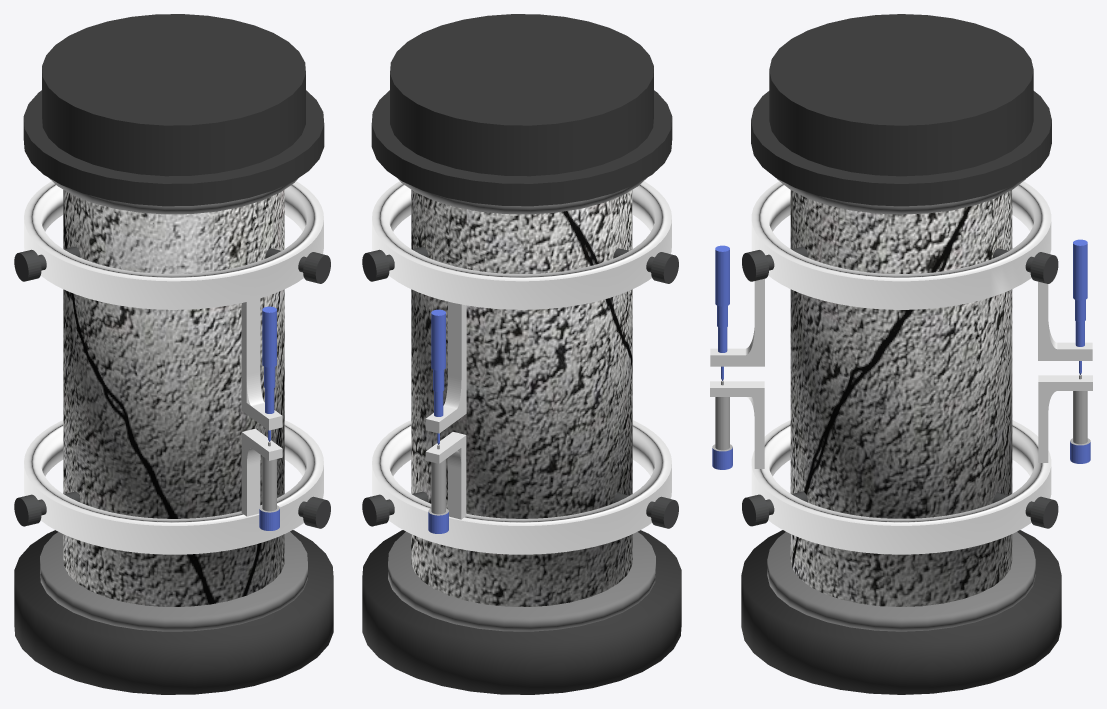
File: cilindro-shear.gltf
3 views of the same model, side by side, from view 1: azimuth 30°, elevation 25°; view 2: azimuth 150°, elevation 25°; view 3: azimuth 270°, elevation 25° (orthographic).
Visible parts, largest first — view 1: cilindroConcreto, apoyo_sup, compresometro, apoyo_inf, espuma_inf, espuma_sup; view 2: cilindroConcreto, apoyo_sup, compresometro, apoyo_inf, espuma_inf, espuma_sup; view 3: cilindroConcreto, apoyo_sup, compresometro, apoyo_inf, espuma_inf, espuma_sup.
Boxes of the visible parts, bbox=[...] form: cilindroConcreto: bbox=[63, 190, 284, 606]; apoyo_sup: bbox=[23, 14, 324, 206]; compresometro: bbox=[14, 181, 330, 554]; apoyo_inf: bbox=[14, 530, 333, 694]; espuma_inf: bbox=[40, 531, 307, 631]; espuma_sup: bbox=[49, 178, 298, 214]; cilindroConcreto: bbox=[411, 190, 632, 606]; apoyo_sup: bbox=[371, 14, 672, 206]; compresometro: bbox=[362, 181, 678, 554]; apoyo_inf: bbox=[362, 530, 681, 694]; espuma_inf: bbox=[388, 531, 655, 631]; espuma_sup: bbox=[397, 178, 646, 214]; cilindroConcreto: bbox=[790, 190, 1012, 606]; apoyo_sup: bbox=[751, 14, 1051, 206]; compresometro: bbox=[710, 181, 1092, 554]; apoyo_inf: bbox=[741, 530, 1061, 694]; espuma_inf: bbox=[767, 532, 1035, 631]; espuma_sup: bbox=[777, 178, 1025, 214].
Bounding box in the file's own units: 0.2263 × 0.4159 × 0.2589.
Materials: 7 (1 with a texture image).
